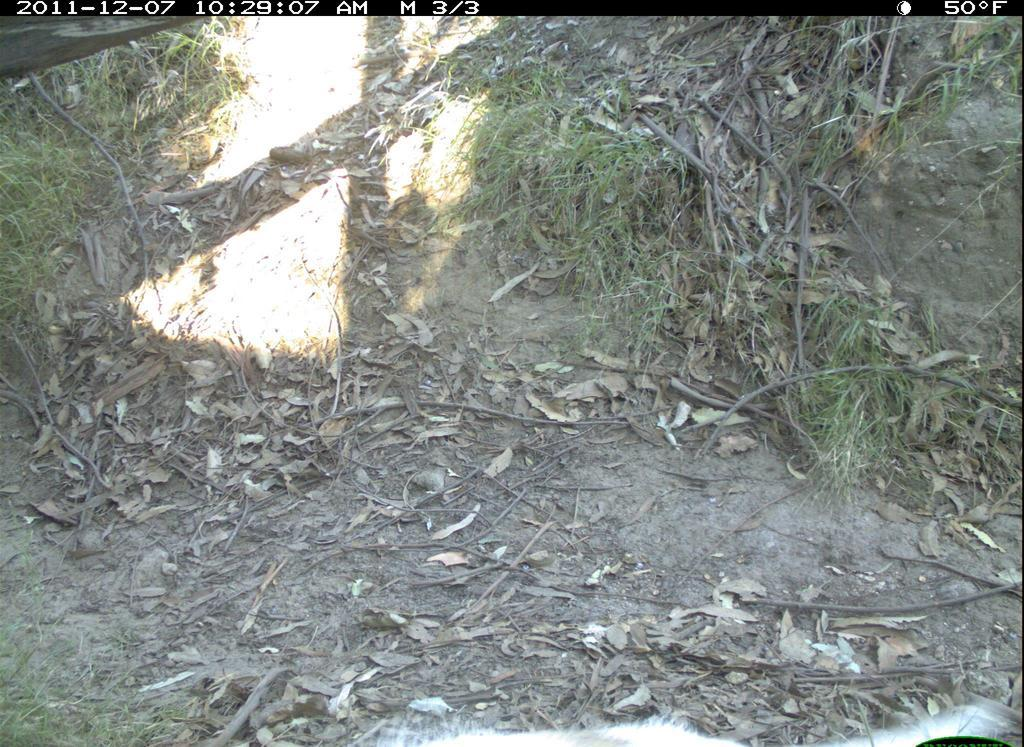dog: (372, 699, 998, 747)
